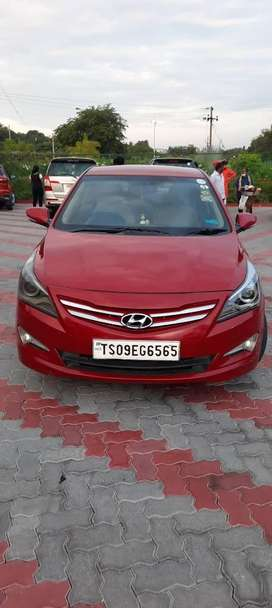TS09EG6565: (92, 339, 179, 360)
